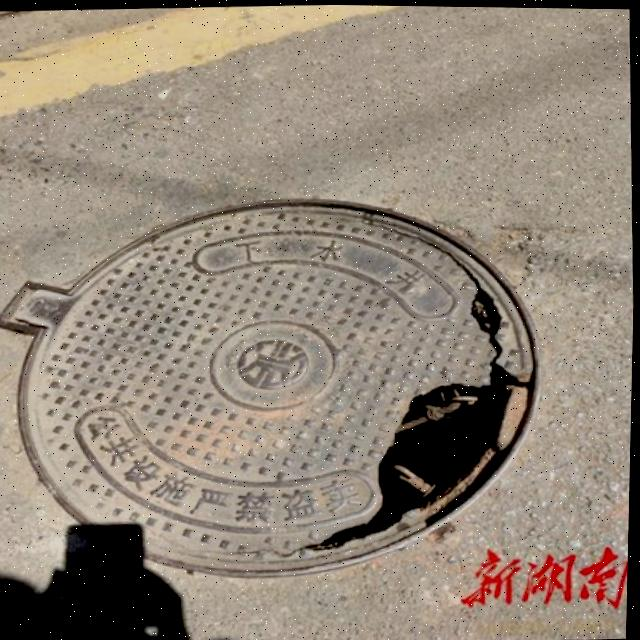manhole: (0, 171, 558, 590)
